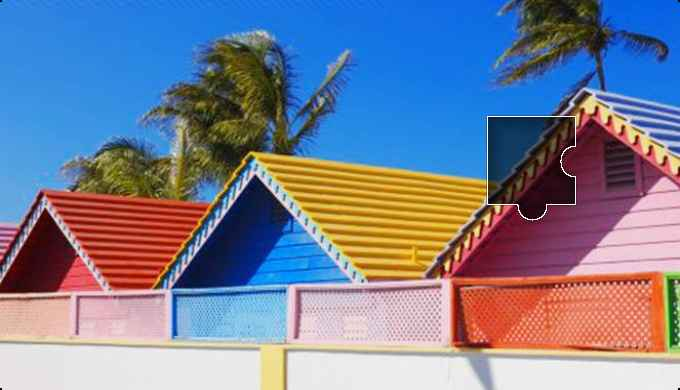gap: (487, 114, 574, 221)
